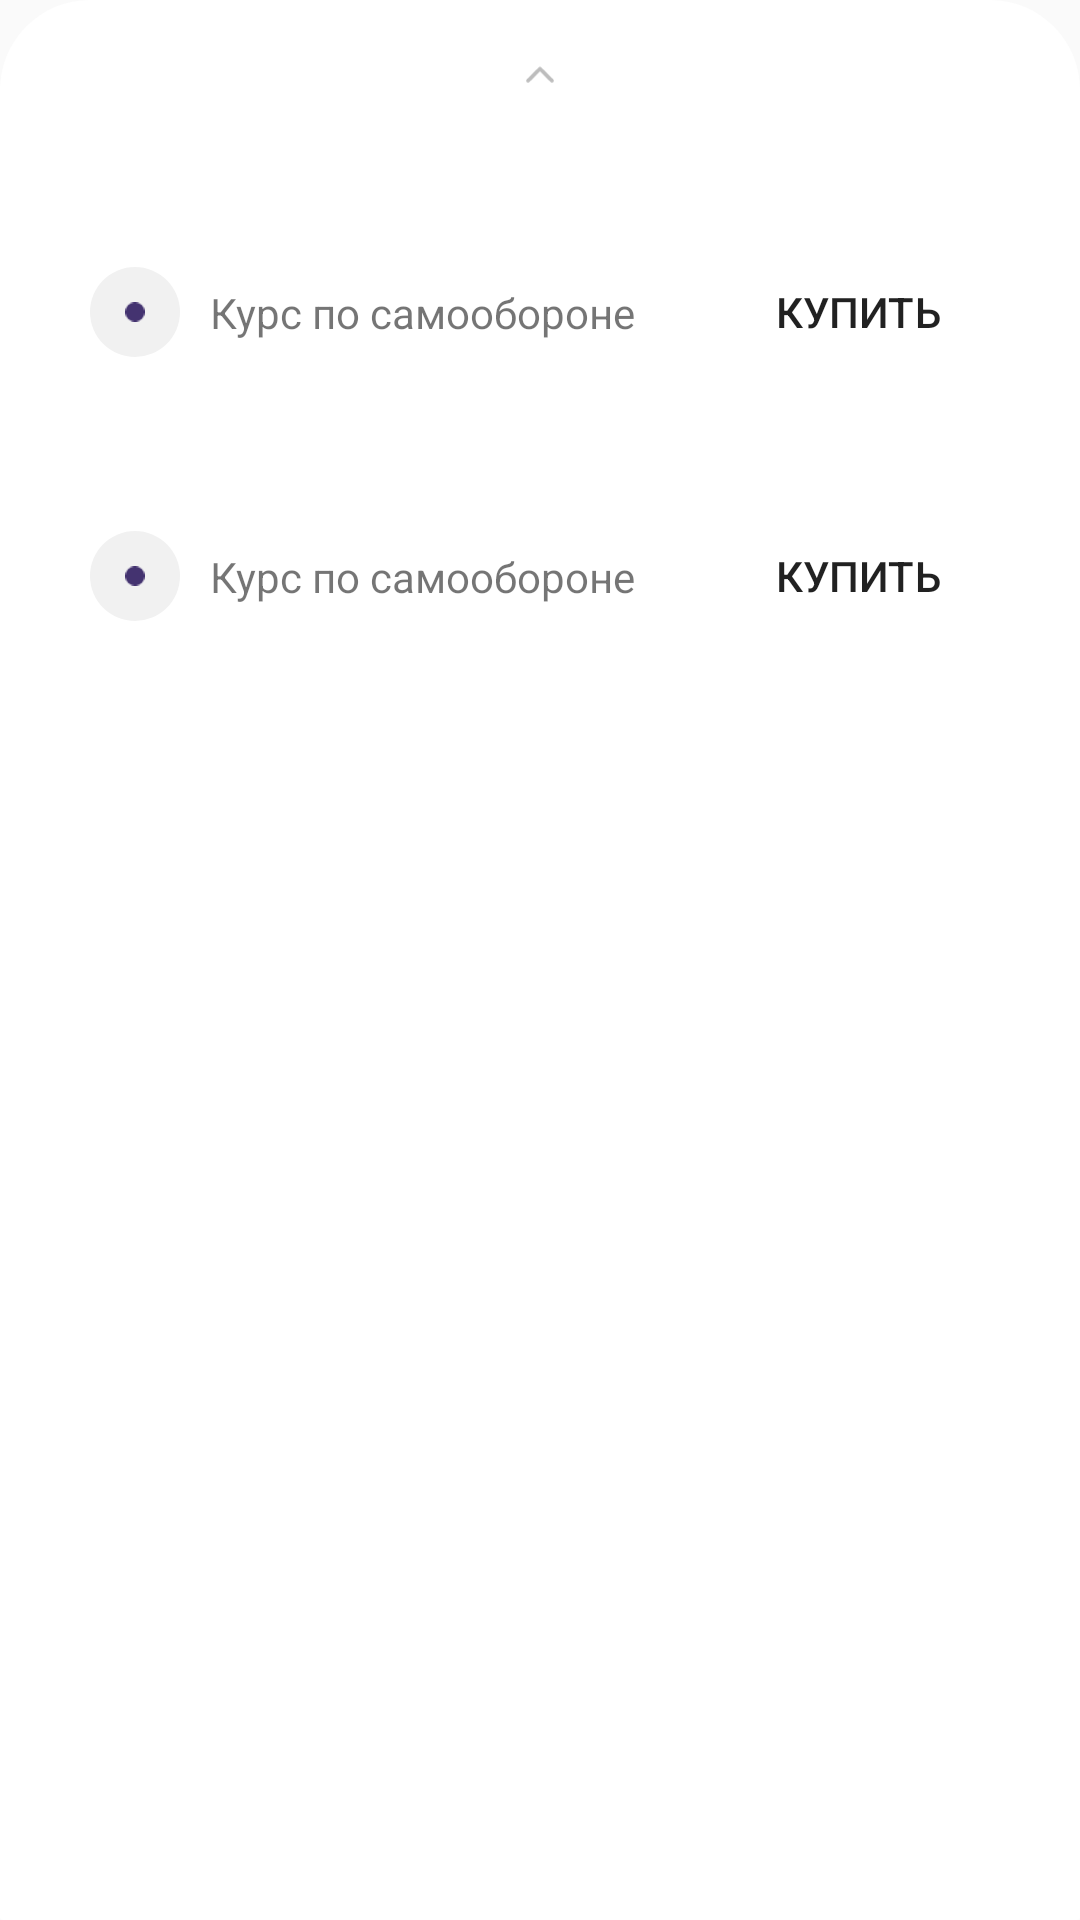

Where to tap for icons on this 1080 × 1920 app screen, as point (x, y):
arrow: point (540, 75)
